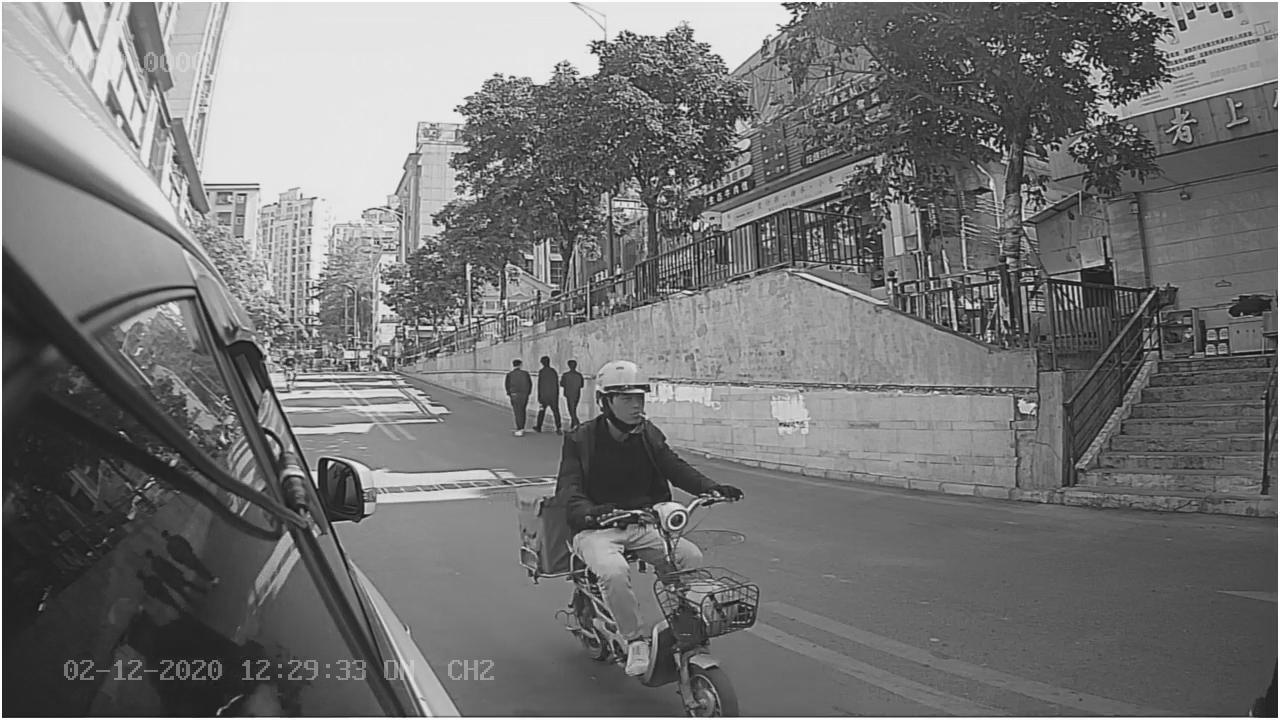person: (554, 359, 743, 501)
